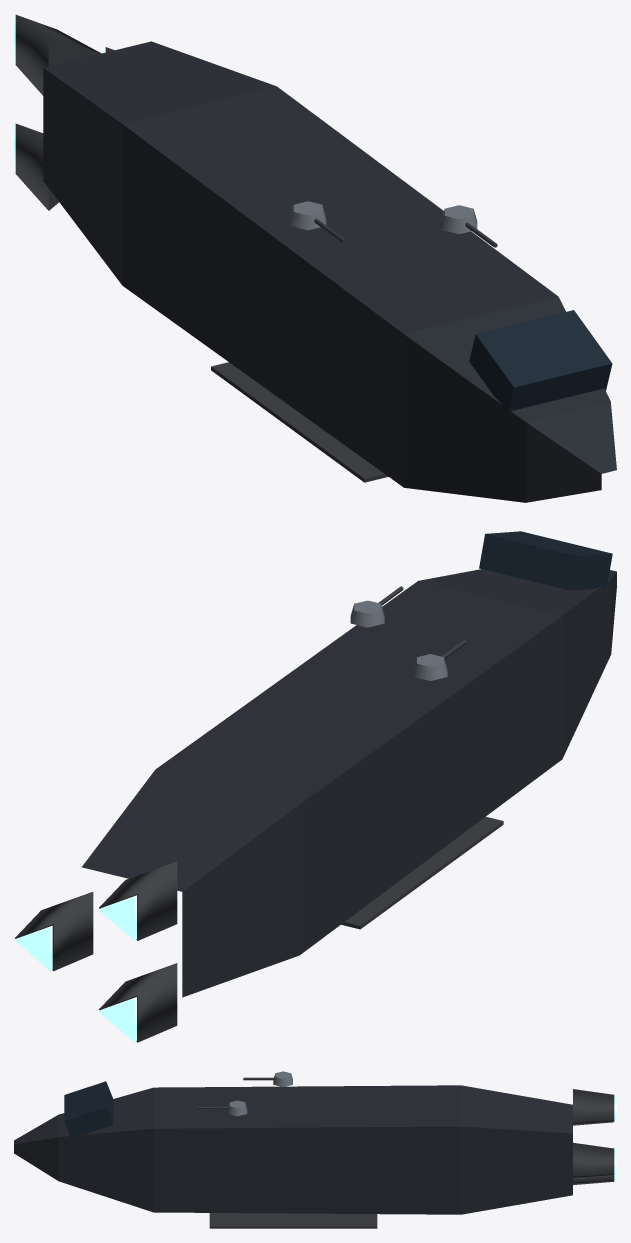
Rendered from space_ship_transport_mk4_lod2.glb.
3 renders of one model, top to bottom at view 1: azimuth 30°, elevation 25°; view 2: azimuth 150°, elevation 25°; view 3: azimuth 270°, elevation 25°, orthographic. The views are drawn at different scales.
Visible parts, largest first — view 1: body, hangar_door, engine_1, engine_2, turret_0, turret_1; view 2: body, engine_0, engine_2, engine_1, hangar_door, turret_0, turret_1; view 3: body, hangar_door, engine_0, engine_1, turret_0, turret_1, engine_2.
Boxes of the visible parts, <box> form: body: <box>43,41,616,502</box>; hangar_door: <box>211,362,388,482</box>; engine_1: <box>14,14,101,95</box>; engine_2: <box>14,123,58,210</box>; turret_0: <box>441,205,497,247</box>; turret_1: <box>290,201,346,243</box>; body: <box>82,531,616,997</box>; engine_0: <box>14,892,93,971</box>; engine_2: <box>98,963,177,1042</box>; engine_1: <box>98,861,177,940</box>; hangar_door: <box>341,816,503,929</box>; turret_0: <box>350,586,403,627</box>; turret_1: <box>413,639,466,680</box>; body: <box>14,1081,572,1214</box>; hangar_door: <box>209,1213,377,1228</box>; engine_0: <box>573,1142,616,1179</box>; engine_1: <box>573,1089,616,1125</box>; turret_0: <box>197,1100,247,1116</box>; turret_1: <box>243,1071,292,1087</box>; engine_2: <box>573,1175,616,1184</box>.
Size of the model in its own units: 4.82 by 5.87 by 26.41.
